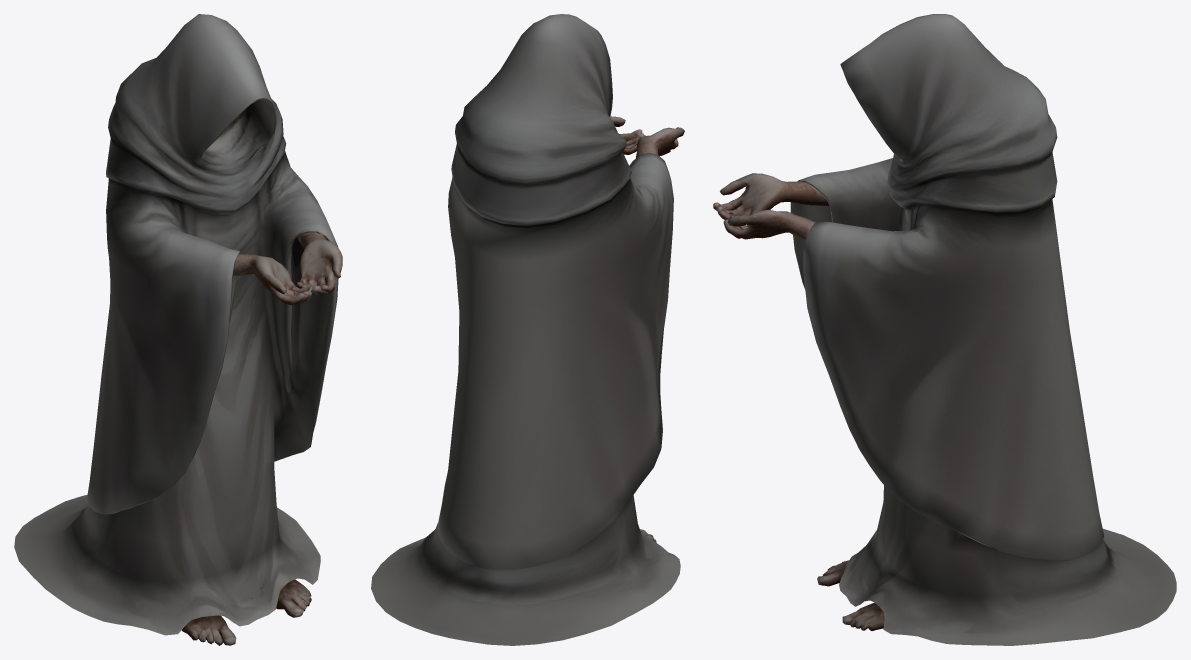
Rendered from 019f417e-61ad-72a6-9a05-9a3edbeac9b1.glb.
3 views of the same model, side by side, from view 1: azimuth 30°, elevation 25°; view 2: azimuth 150°, elevation 25°; view 3: azimuth 270°, elevation 25° (orthographic). The views are drawn at different scales.
Visible parts, largest first — view 1: tripo_node_9309bb2a-e02a-4cff-80fe-19ea9ccc83d0; view 2: tripo_node_9309bb2a-e02a-4cff-80fe-19ea9ccc83d0; view 3: tripo_node_9309bb2a-e02a-4cff-80fe-19ea9ccc83d0.
Boxes of the visible parts, <box> form: tripo_node_9309bb2a-e02a-4cff-80fe-19ea9ccc83d0: <box>14,14,342,645</box>; tripo_node_9309bb2a-e02a-4cff-80fe-19ea9ccc83d0: <box>371,14,684,645</box>; tripo_node_9309bb2a-e02a-4cff-80fe-19ea9ccc83d0: <box>713,14,1176,645</box>.
Size of the model in its own units: 0.4668 by 0.998 by 0.7129.
Materials: 1 (1 with a texture image).
